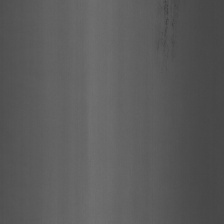inclusion: (152, 0, 184, 68)
